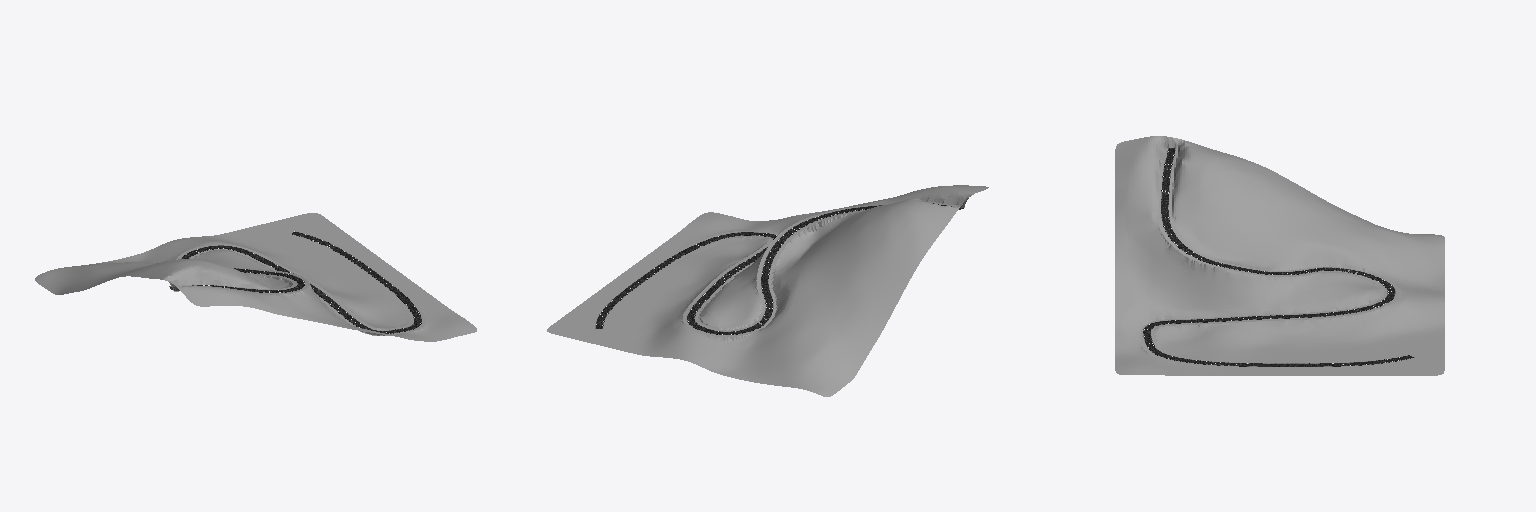
3 views of the same model, side by side, from view 1: azimuth 30°, elevation 25°; view 2: azimuth 150°, elevation 25°; view 3: azimuth 270°, elevation 25° (orthographic).
Parts seen in each view (by area): view 1: Grid, road_Plane, plane_Plane.002; view 2: Grid, road_Plane, plane_Plane.002; view 3: Grid, road_Plane, plane_Plane.002.
Part boxes in pixels (bbox=[...]): Grid: bbox=[35, 213, 476, 341]; road_Plane: bbox=[169, 231, 421, 333]; plane_Plane.002: bbox=[173, 230, 425, 335]; Grid: bbox=[547, 185, 988, 396]; road_Plane: bbox=[595, 203, 963, 334]; plane_Plane.002: bbox=[591, 203, 964, 336]; Grid: bbox=[1115, 136, 1444, 375]; road_Plane: bbox=[1143, 148, 1414, 366]; plane_Plane.002: bbox=[1141, 148, 1410, 368].
Size of the model in its own units: 8 by 2.7 by 8.
3 materials, 1 textured.